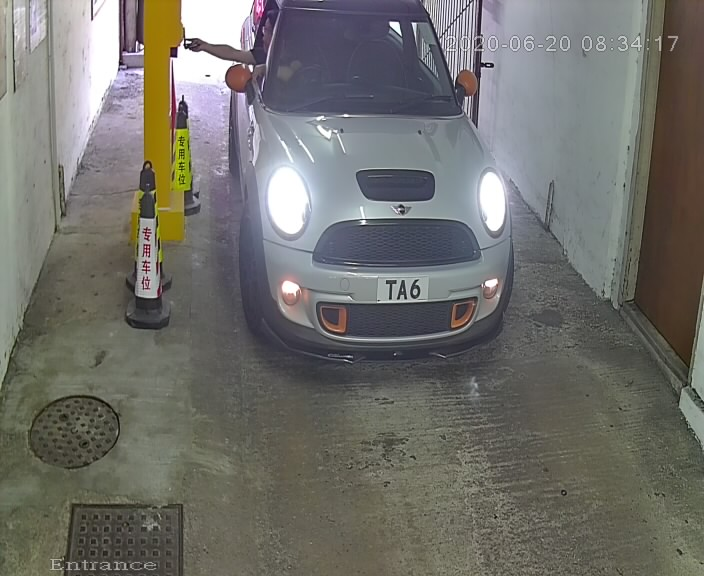privatecar: (194, 3, 531, 350)
